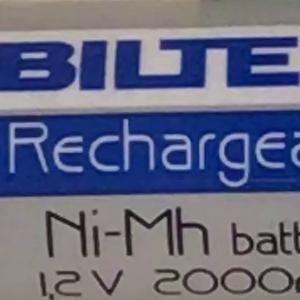keyword: (36, 167, 240, 268)
